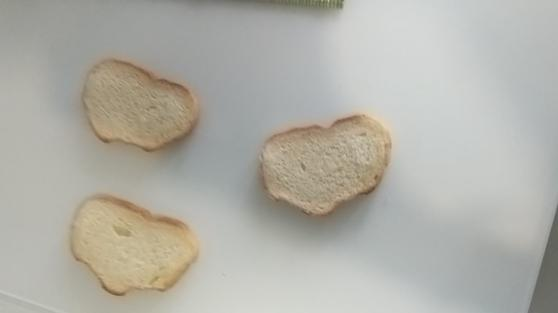white_bread: (68, 188, 202, 297), (260, 113, 393, 216), (81, 56, 202, 152)
